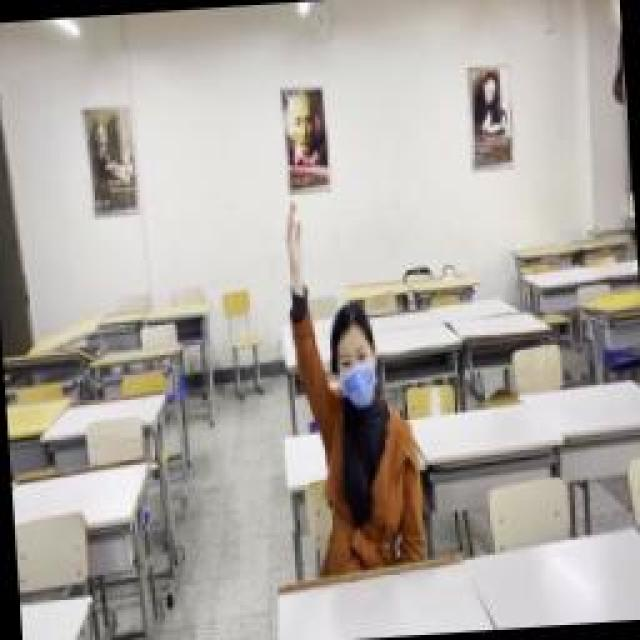study: (282, 192, 422, 562)
